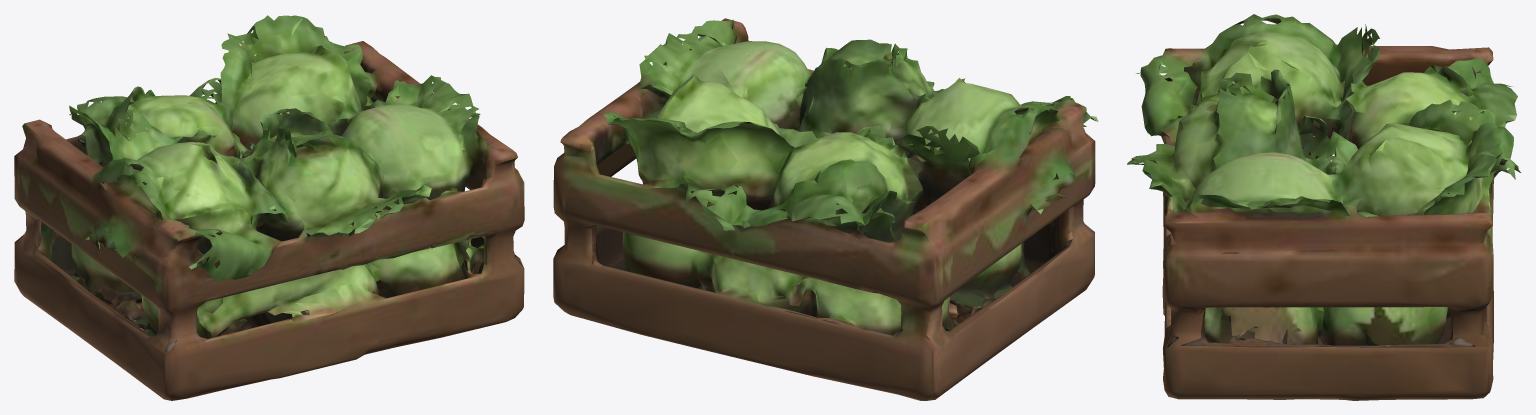
File: CabbageCrate.glb
3 views of the same model, side by side, from view 1: azimuth 30°, elevation 25°; view 2: azimuth 150°, elevation 25°; view 3: azimuth 270°, elevation 25° (orthographic). The views are drawn at different scales.
Visible parts, largest first — view 1: CabbageCrate; view 2: CabbageCrate; view 3: CabbageCrate.
Boxes of the visible parts, box(x1,y1,x2,y2) form: CabbageCrate: box(14, 15, 524, 400); CabbageCrate: box(553, 18, 1098, 400); CabbageCrate: box(1127, 14, 1520, 400).
Size of the model in its own units: 0.9558 by 0.5199 by 0.8081.
Materials: 1 (1 with a texture image).
